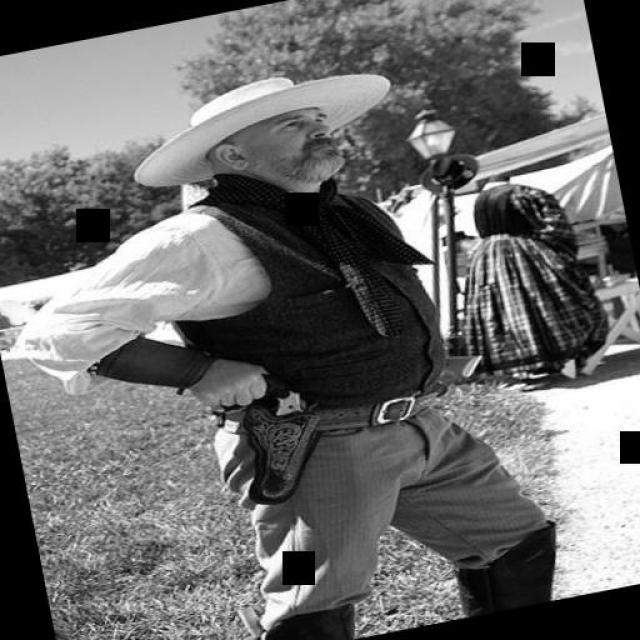gun: (214, 356, 335, 506)
